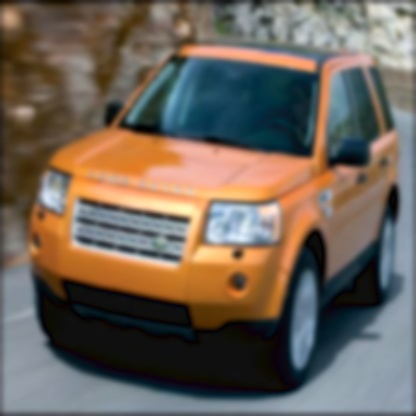Vehicle: (29, 43, 402, 392)
